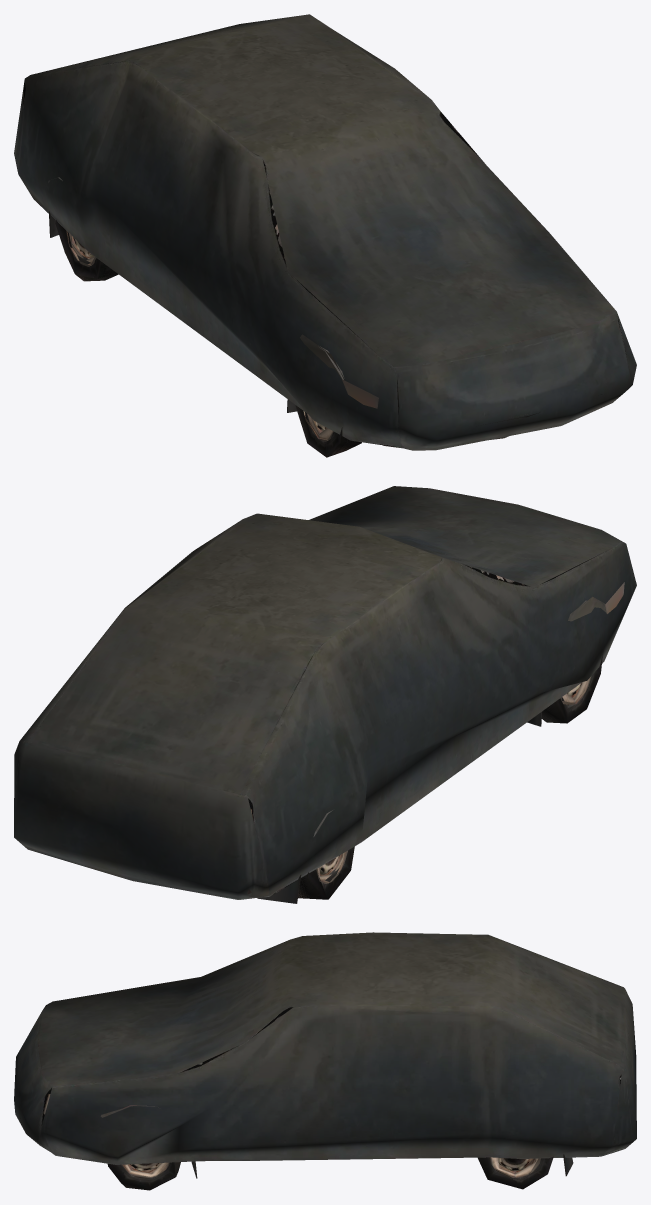
Rendered from covered_car.glb.
3 renders of one model, top to bottom at view 1: azimuth 30°, elevation 25°; view 2: azimuth 150°, elevation 25°; view 3: azimuth 270°, elevation 25°, orthographic. The views are drawn at different scales.
Parts seen in each view (by area): view 1: covered_car_wheel_01; view 2: covered_car_wheel_01; view 3: covered_car_wheel_01.
Part boxes in pixels (left/top/right/bottom): covered_car_wheel_01: left=14, top=14, right=636, bottom=457; covered_car_wheel_01: left=14, top=486, right=636, bottom=903; covered_car_wheel_01: left=14, top=932, right=636, bottom=1190.
Size of the model in its own units: 1.79 by 1.41 by 4.34.
Materials: 1 (1 with a texture image).
